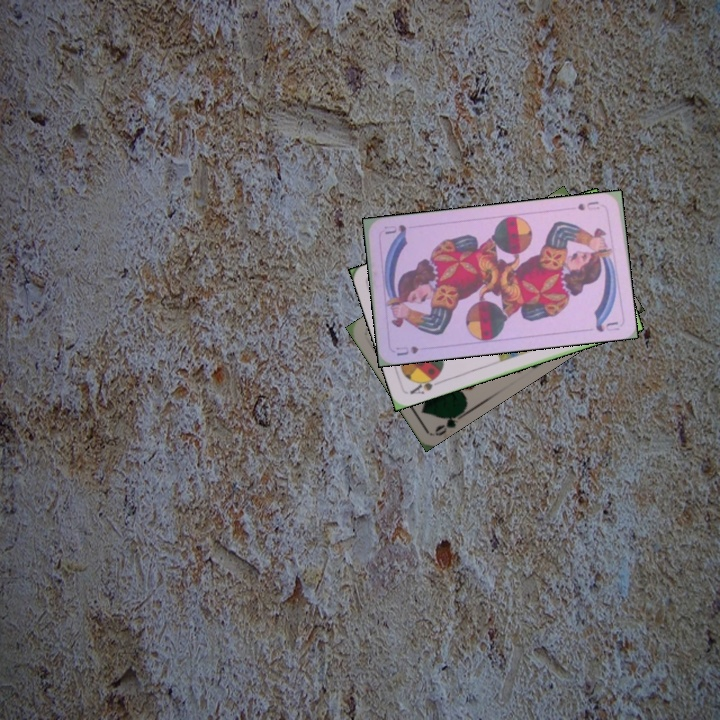GO: (431, 407, 468, 438)
SA: (406, 371, 442, 397)
SU: (392, 342, 421, 358), (574, 197, 602, 213)
